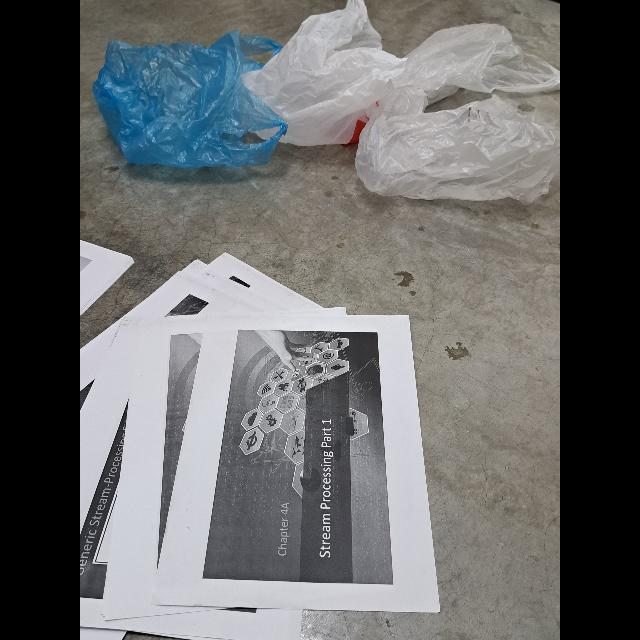papel: (80, 250, 440, 640)
sacola plástica: (96, 31, 290, 165), (244, 0, 422, 146), (356, 94, 560, 200), (386, 22, 560, 110)
